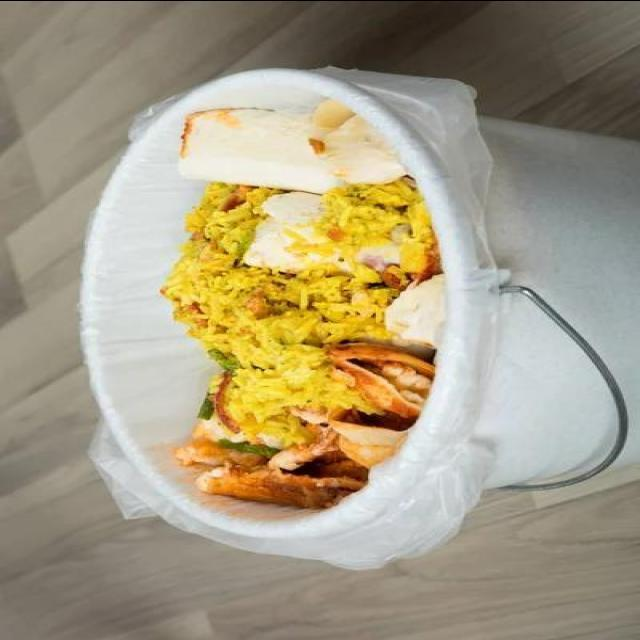Garbage: (160, 88, 455, 510)
